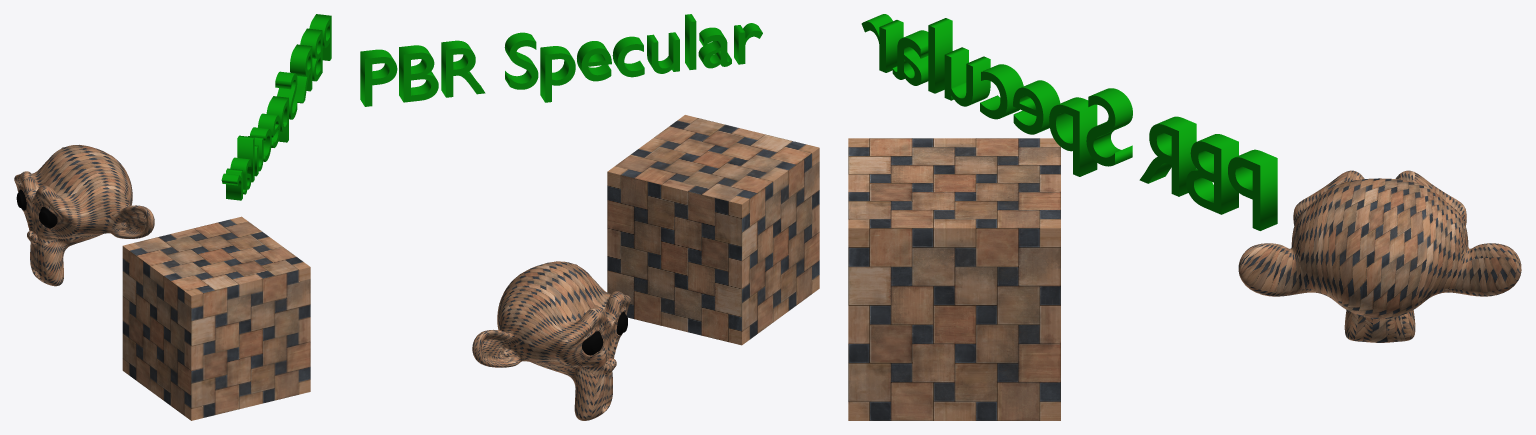
The model's file is HybridPBRSpecular.obj.
The picture shows the model from 3 angles, left to right: view 1: azimuth 30°, elevation 25°; view 2: azimuth 150°, elevation 25°; view 3: azimuth 270°, elevation 25°; orthographic projection. The views are drawn at different scales.
Visible parts, largest first — view 1: Cube, Suzanne_Suzanne.001, Text_CUText; view 2: Cube, Suzanne_Suzanne.001, Text_CUText; view 3: Cube, Suzanne_Suzanne.001, Text_CUText.
Part boxes in pixels (x1=…): Cube: x1=122, y1=216, x2=310, y2=420; Suzanne_Suzanne.001: x1=14, y1=144, x2=154, y2=286; Text_CUText: x1=221, y1=14, x2=331, y2=200; Cube: x1=607, y1=115, x2=819, y2=345; Suzanne_Suzanne.001: x1=472, y1=261, x2=630, y2=420; Text_CUText: x1=360, y1=14, x2=762, y2=106; Cube: x1=848, y1=138, x2=1060, y2=420; Suzanne_Suzanne.001: x1=1238, y1=170, x2=1521, y2=342; Text_CUText: x1=861, y1=14, x2=1277, y2=230.
Size of what is drawn, in the model's own units: 4.59 by 3.87 by 6.33.
Materials: 3 (1 with a texture image).
